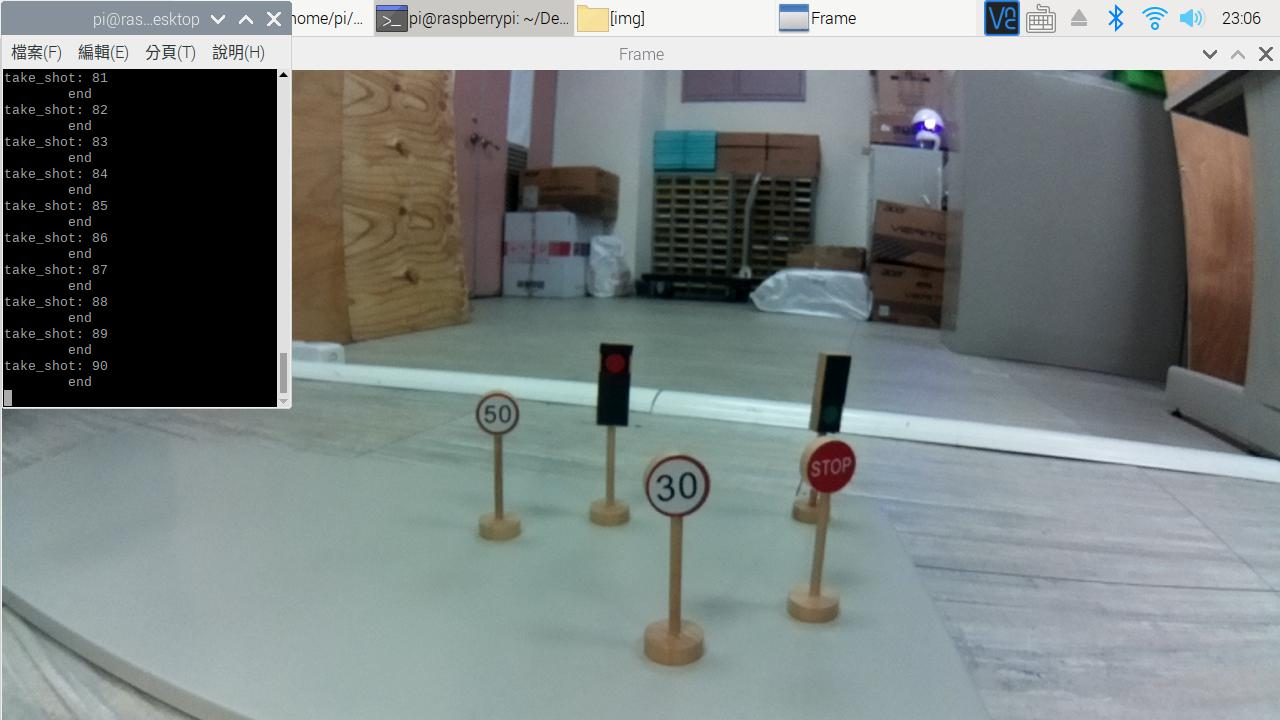Green: (801, 340, 859, 440)
Red: (591, 335, 639, 432)
Speed30: (641, 453, 721, 524)
Speed50: (471, 390, 525, 443)
Stop: (796, 437, 867, 500)
